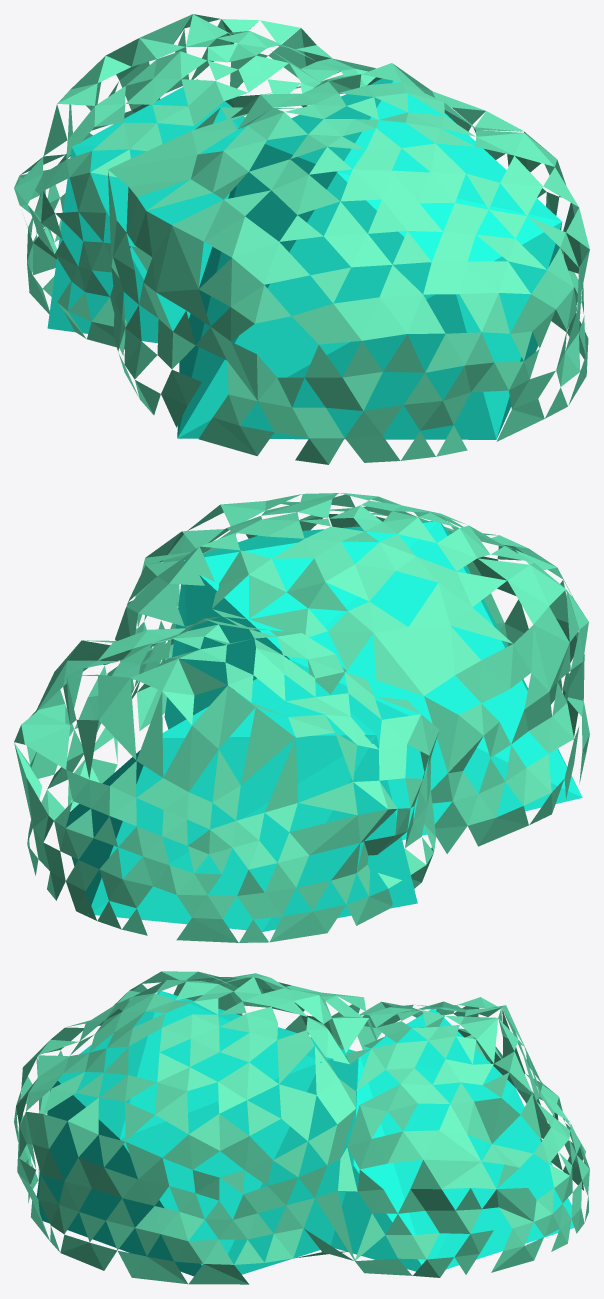
The model's file is WrightBuckwheat_LOD0.fbx.
3 views of the same model, one above another, from view 1: azimuth 30°, elevation 25°; view 2: azimuth 150°, elevation 25°; view 3: azimuth 270°, elevation 25° (orthographic). The views are drawn at different scales.
Visible parts, largest first — view 1: WrightBuckwheat_LOD0; view 2: WrightBuckwheat_LOD0; view 3: WrightBuckwheat_LOD0.
Part boxes in pixels (bbox=[...]): WrightBuckwheat_LOD0: bbox=[14, 14, 589, 464]; WrightBuckwheat_LOD0: bbox=[14, 493, 589, 942]; WrightBuckwheat_LOD0: bbox=[14, 971, 589, 1284].
Size of the model in its own units: 102 by 41.64 by 70.92.
